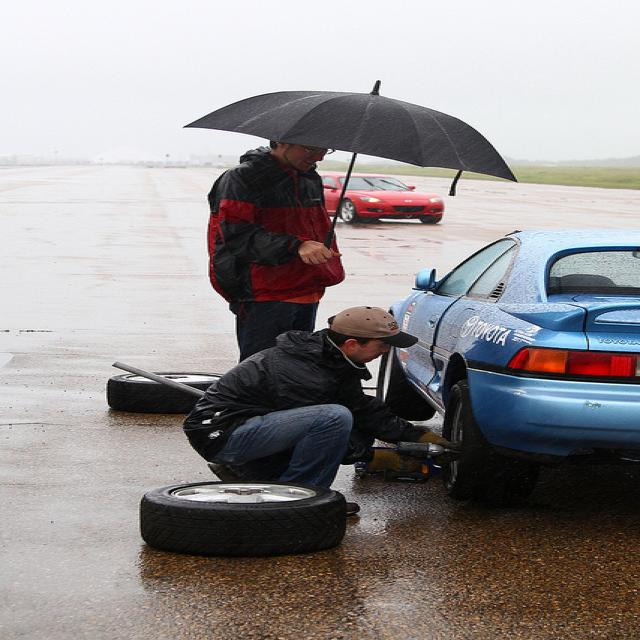Vehicle: (377, 231, 640, 501), (320, 172, 446, 224)
